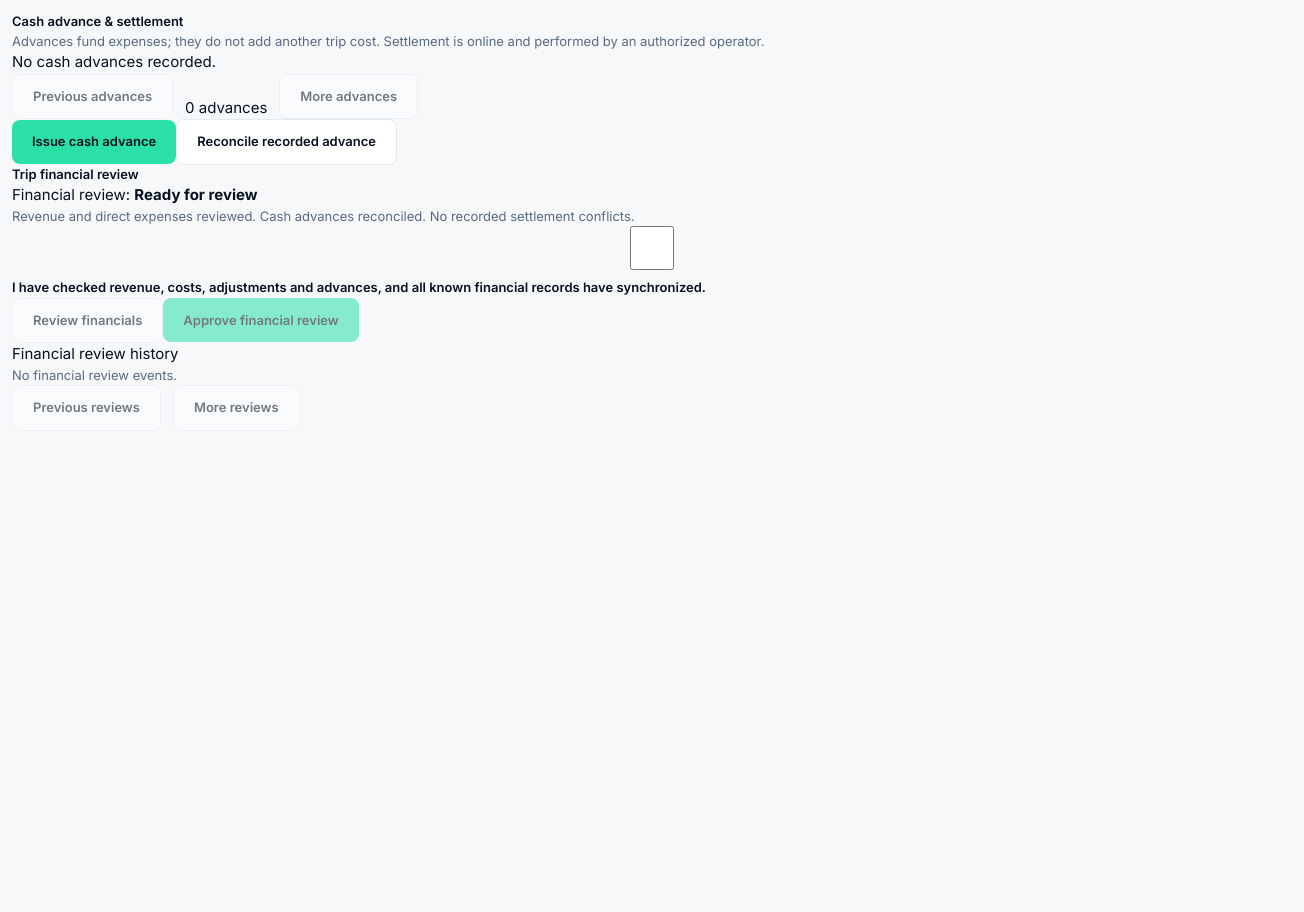
Test: cash settlement and explicit approval › validates money and permanent entry before posting
The width and height of the screenshot is (1304, 912).
Expected: the text "No cash advances recorded." is shown, [12,52,216,71]
Click the button "Issue cash advance": (94,142) [12,120,176,164]
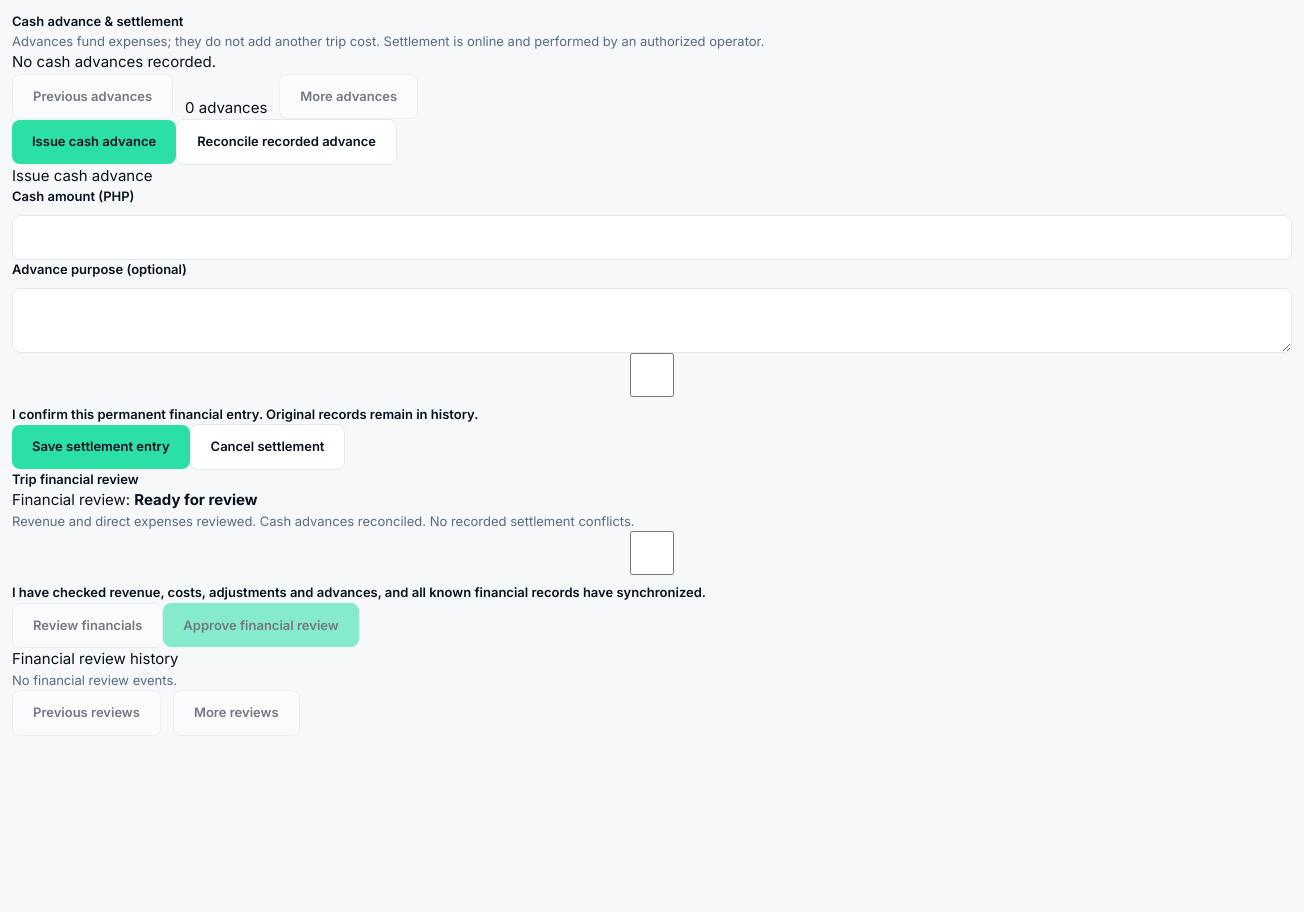
In the field labelled "Cash amount (PHP)": (652,237) [12,214,1292,260], type "1e3"
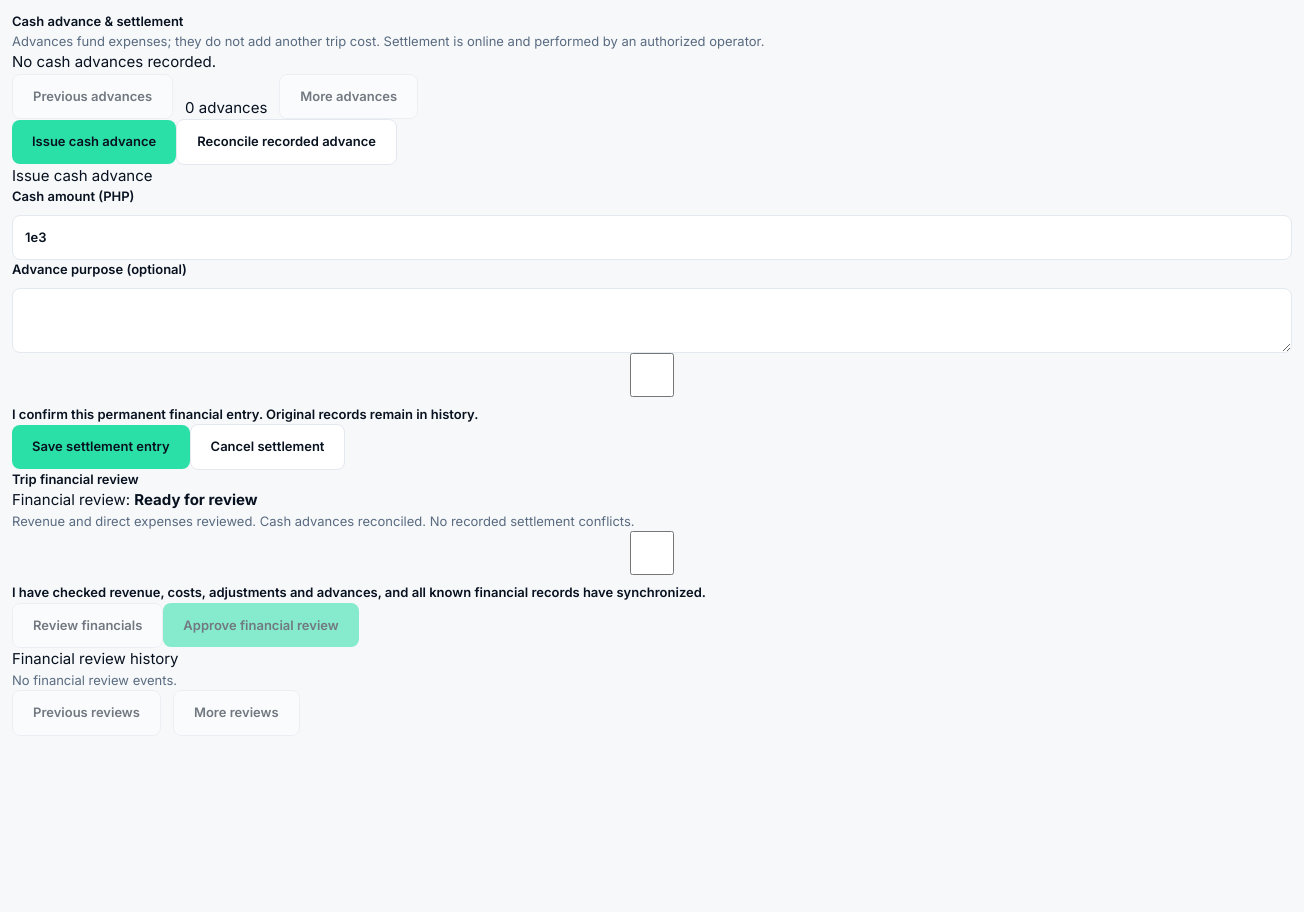
Click the checkbox labelled "I confirm this permanent": (652,374) [12,352,1292,396]
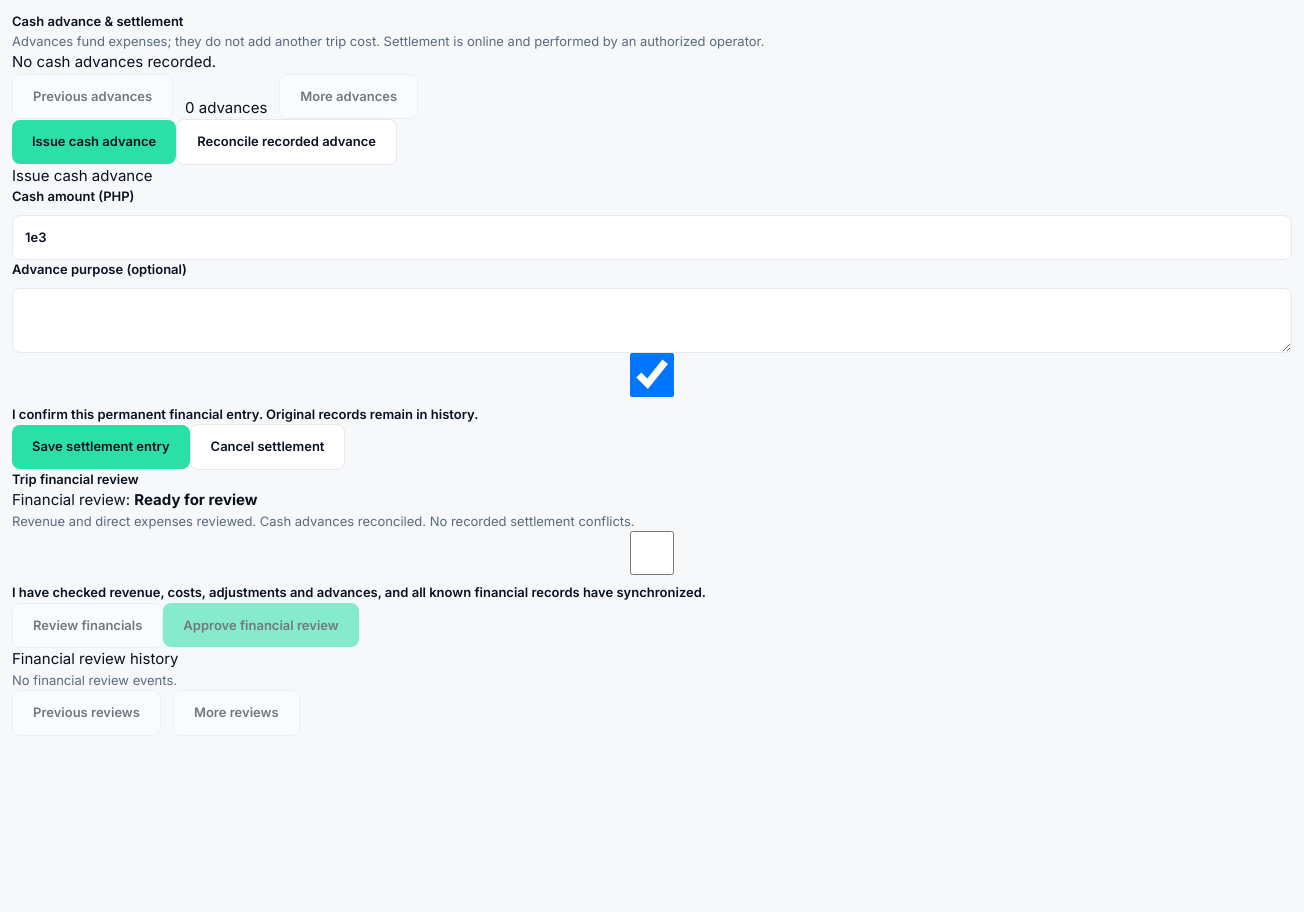
Click the button "Save settlement entry": (101,447) [12,425,190,469]
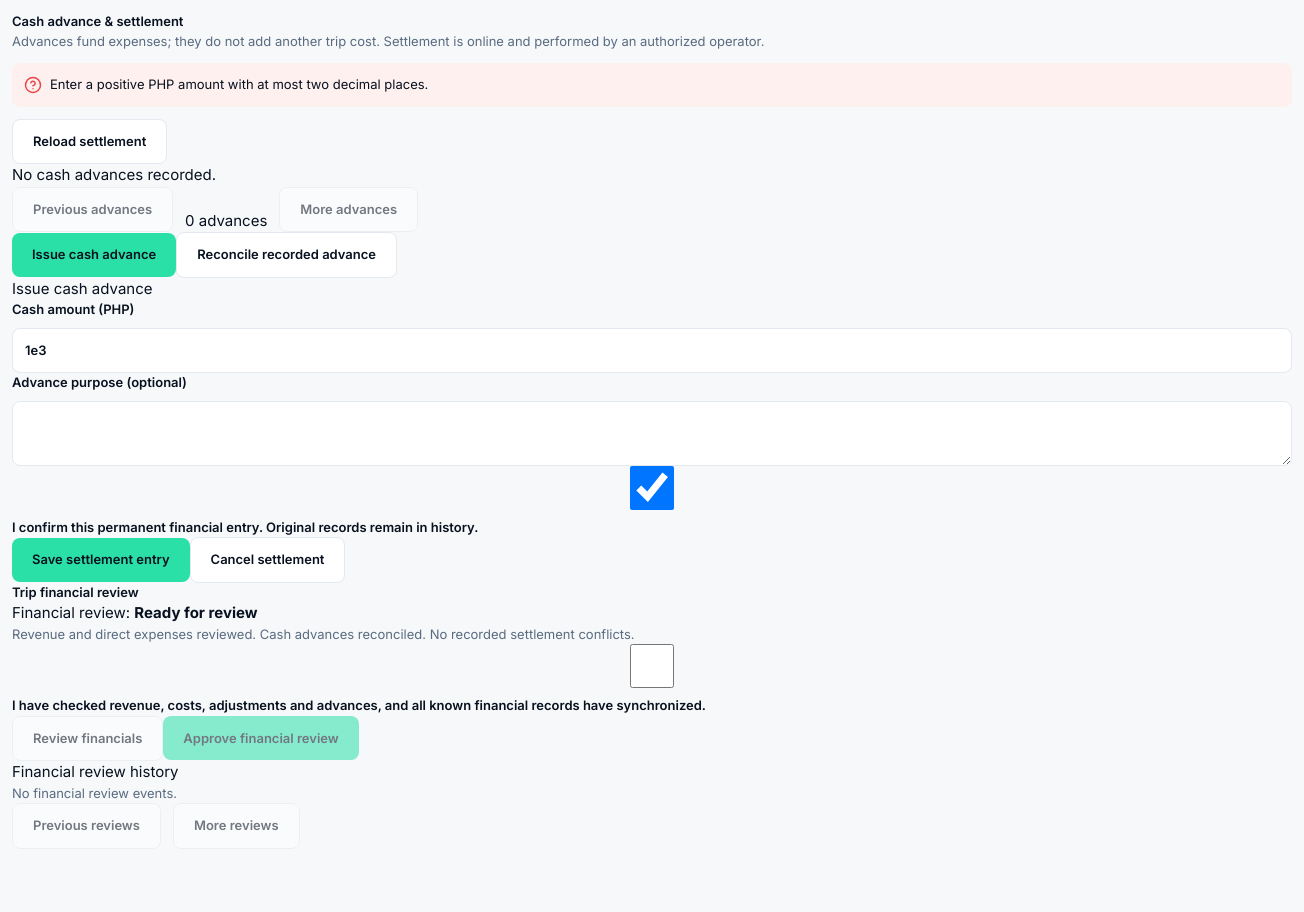
Expected: the button "Approve financial review" is disabled, [163,716,359,760]
Expected: the text "Enter a positive PHP amount with at most two decimal places." is shown, [50,75,428,94]
